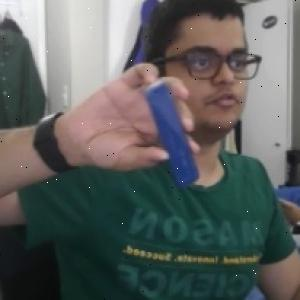Diamond-E-Ciggirate: (141, 75, 203, 187)
